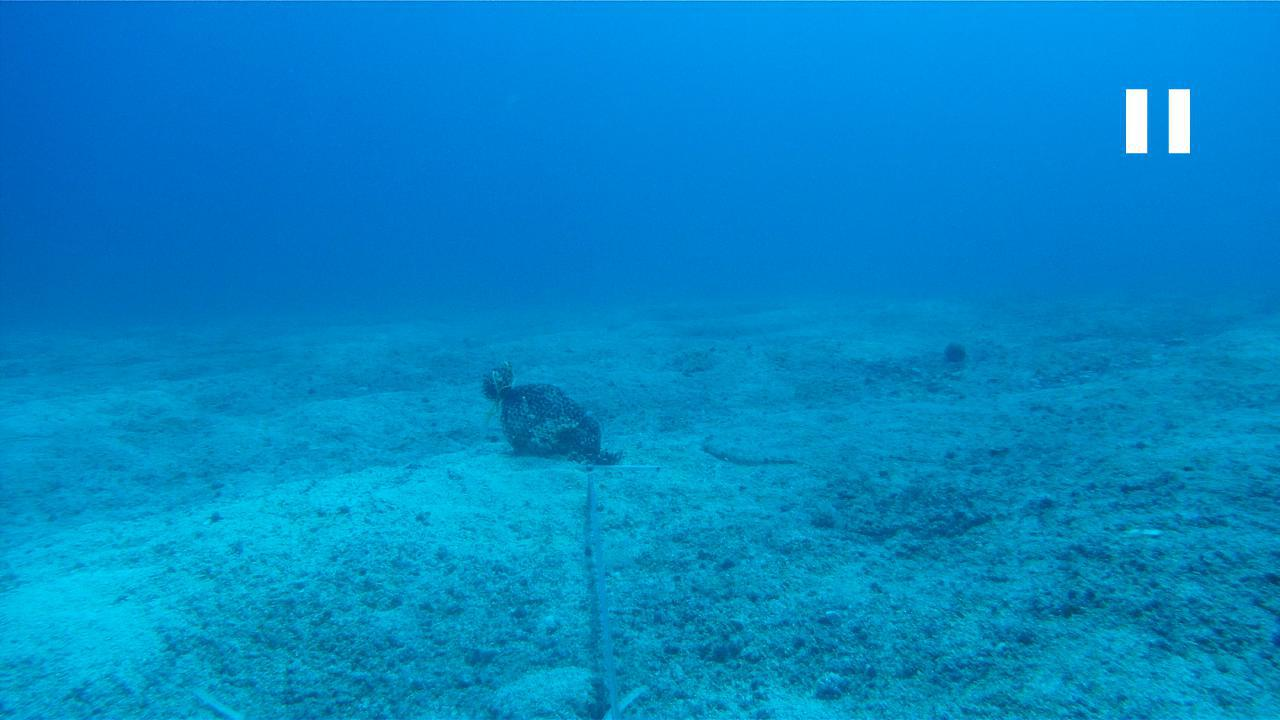bothus: (697, 429, 802, 471)
